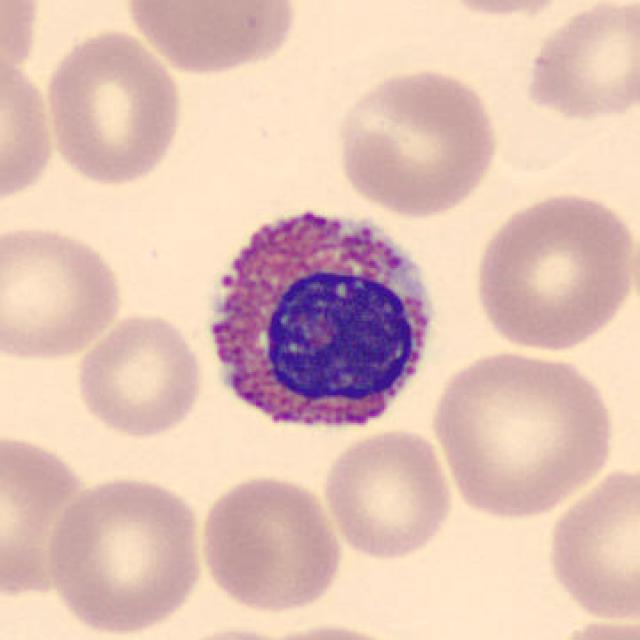Eosinophil: (190, 191, 446, 453)
RBC: (427, 345, 620, 522), (468, 187, 638, 354), (41, 471, 208, 636), (331, 65, 503, 219), (39, 25, 187, 188), (196, 471, 346, 615), (318, 427, 457, 562), (0, 220, 128, 365), (71, 308, 208, 441), (0, 428, 96, 602), (540, 462, 640, 624), (519, 0, 638, 125), (119, 0, 301, 78), (0, 48, 59, 210), (0, 0, 42, 86), (245, 619, 416, 640), (426, 0, 583, 19), (544, 613, 640, 640), (156, 624, 310, 640)
